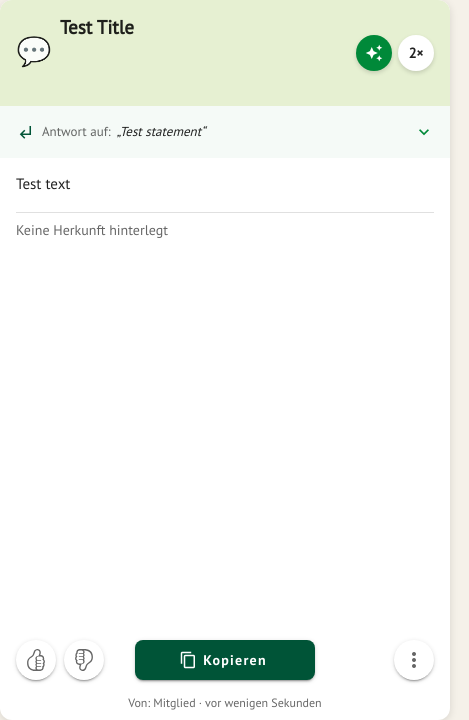
Scenario: BeitragskarteComponent › Mobile Badge Display › zaehlt die Nutzung nach dem Kopieren hoch
Click the button with class "kopieren-knopf": point(225, 660) [135,640,315,680]
Wait 600 ms
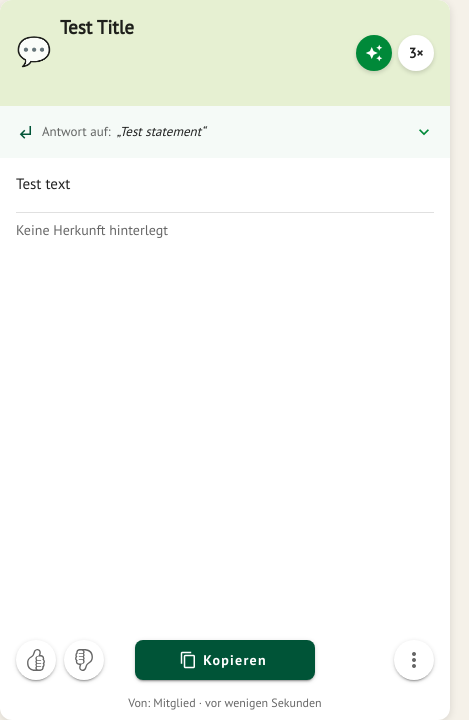
Expected: the text with class "badge-nutzung" reads "3×", [409,44,423,62]
